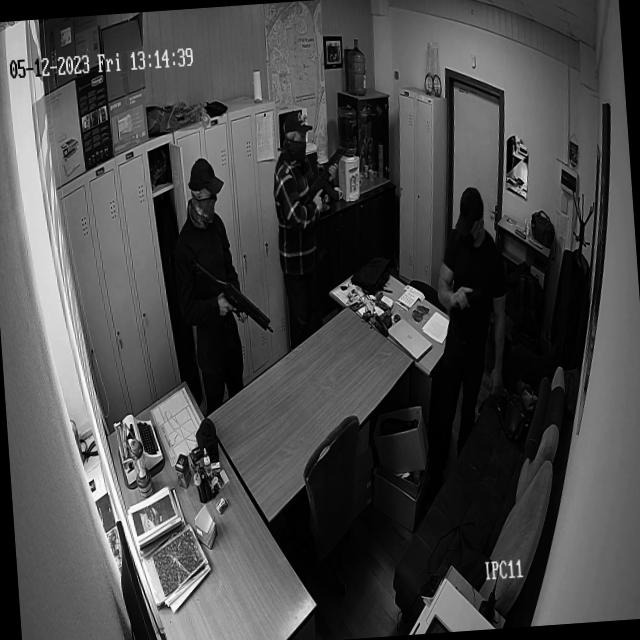gun: (192, 252, 274, 343), (302, 132, 358, 208), (456, 283, 481, 307)
person with a gun: (431, 190, 513, 438), (168, 154, 250, 392), (268, 115, 328, 338)
